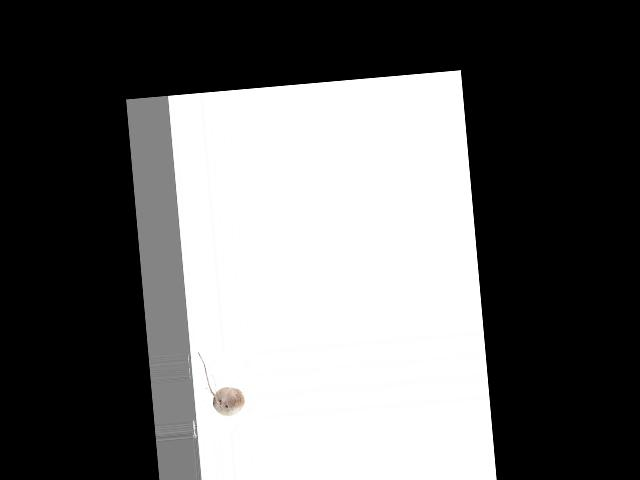beet: (197, 348, 245, 417)
